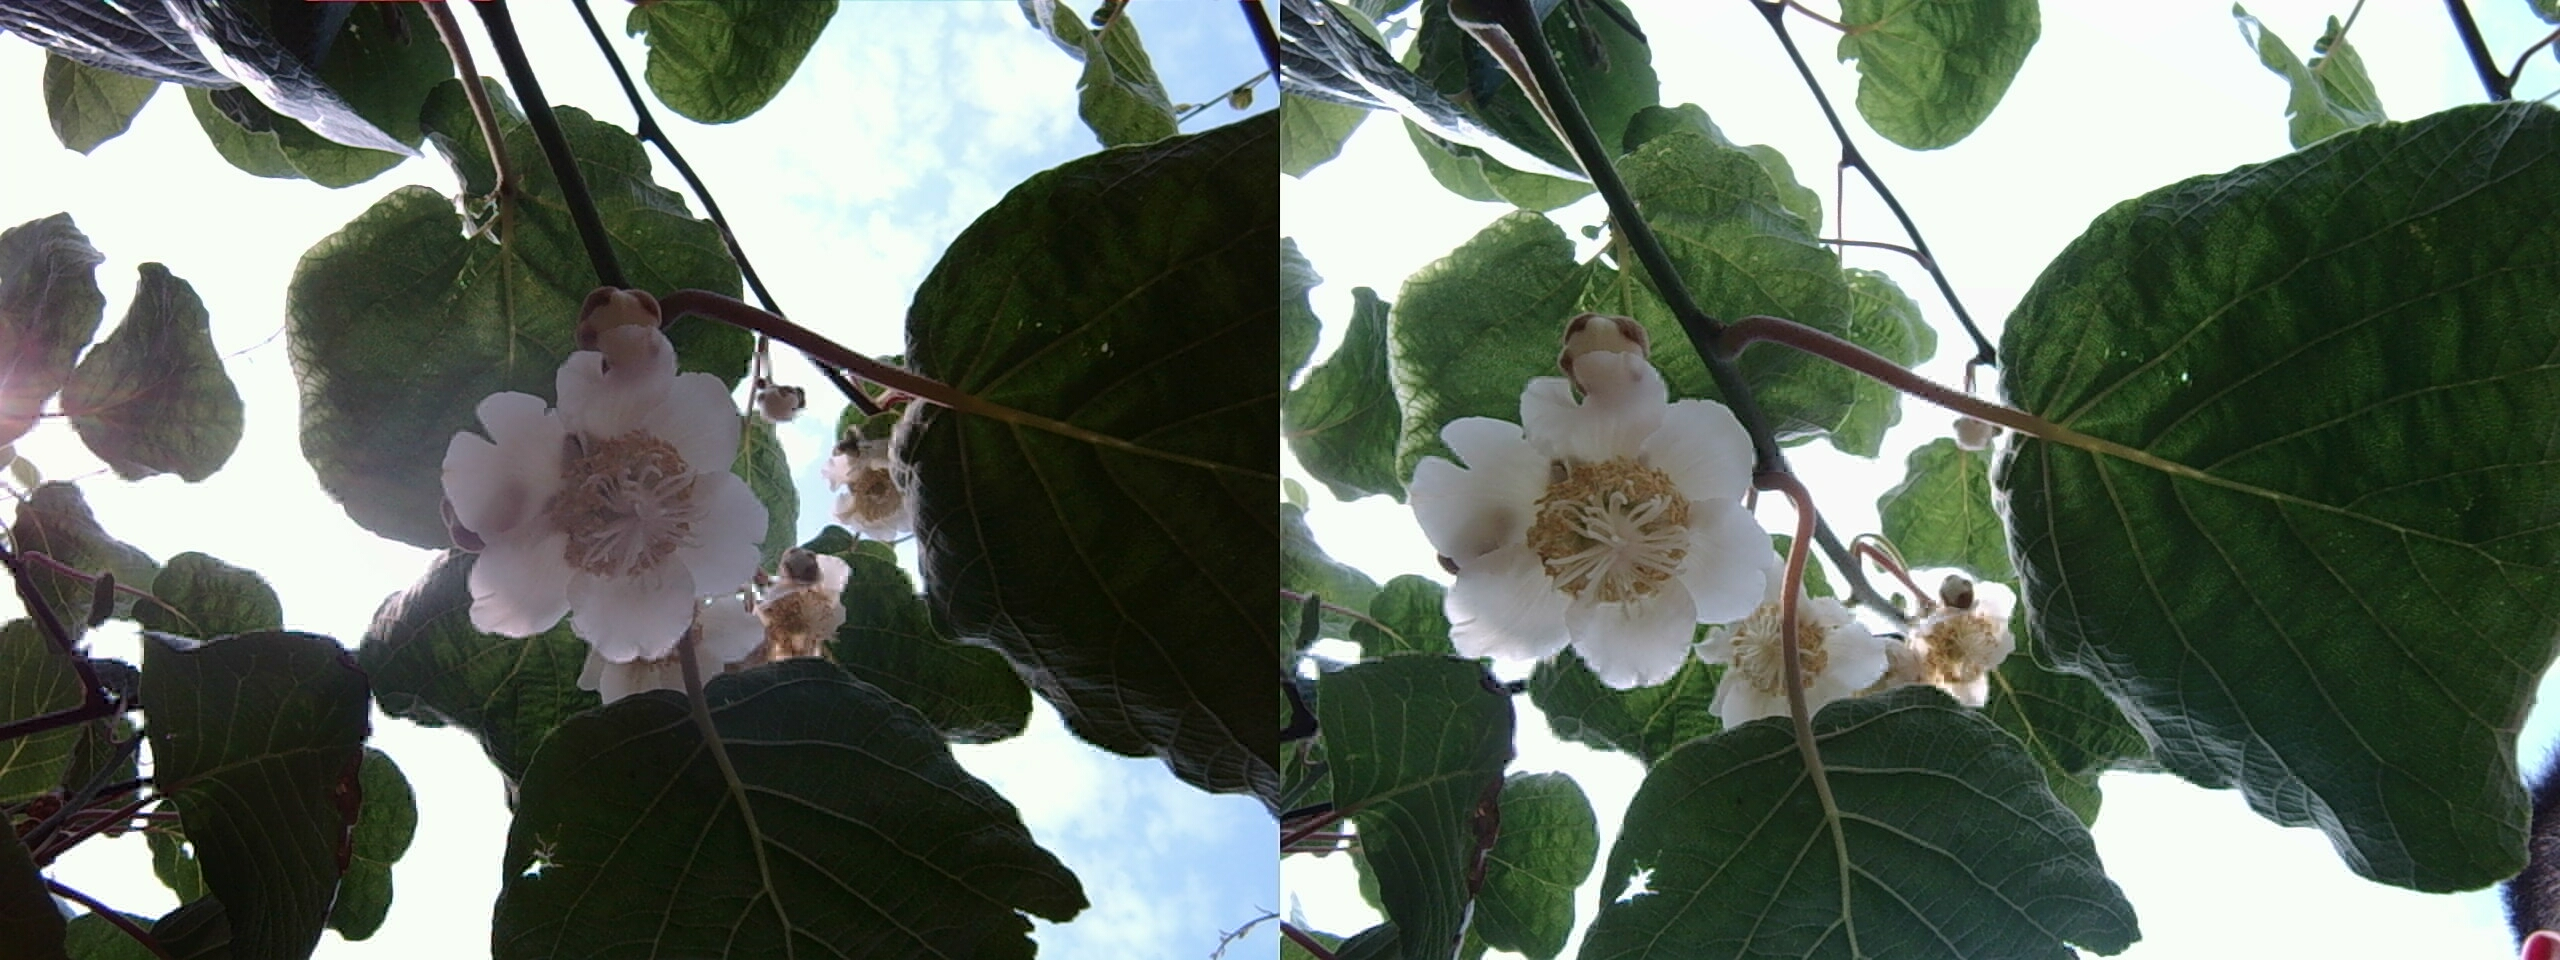flower: (1429, 351, 1765, 687), (446, 335, 764, 656), (1709, 576, 1954, 722), (1833, 568, 2013, 696), (1518, 310, 1665, 442)
